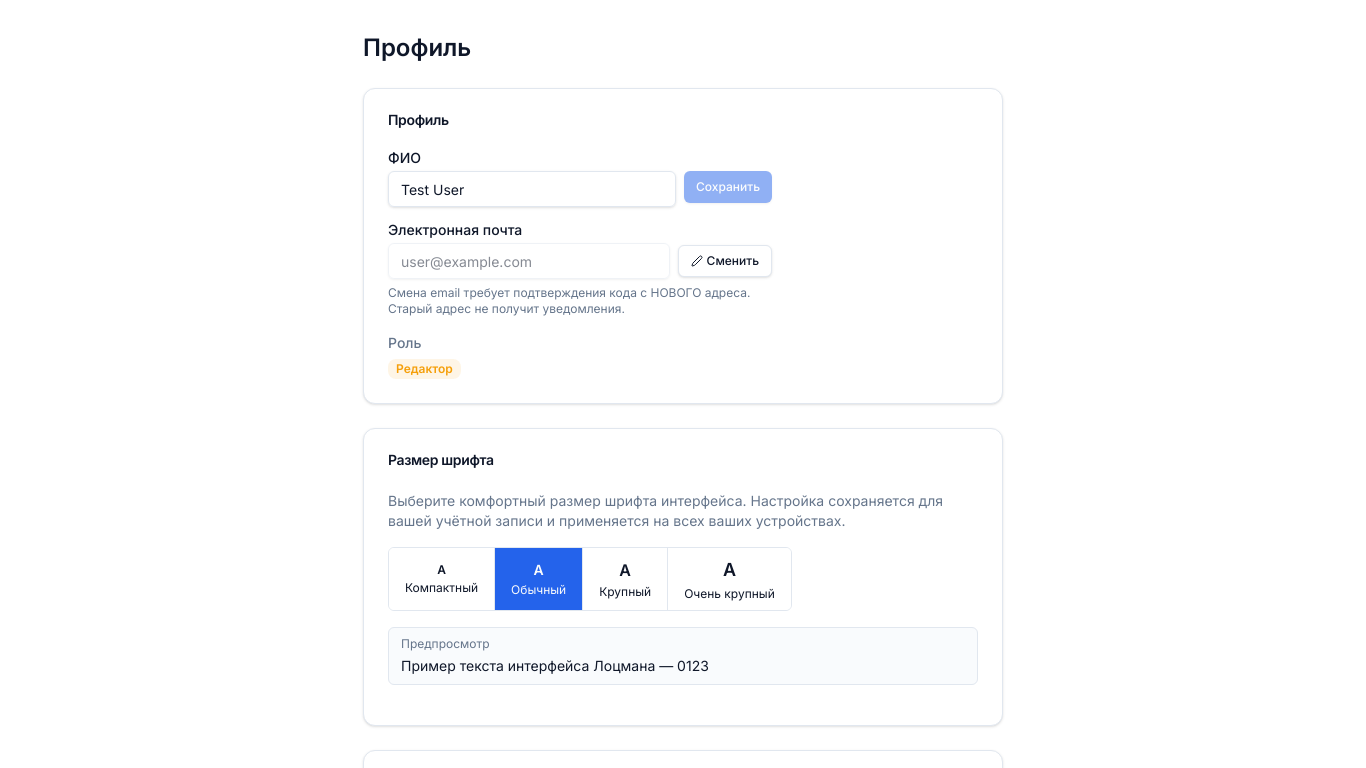
Test case: EmailChangeDialog — open/close › opens dialog when Сменить button is clicked
Expected: the field showing "user@example.com" is shown, 388,243 -> 670,279
Step 1. Click the button "Сменить" → x=725, y=261, box 678,245 -> 772,277
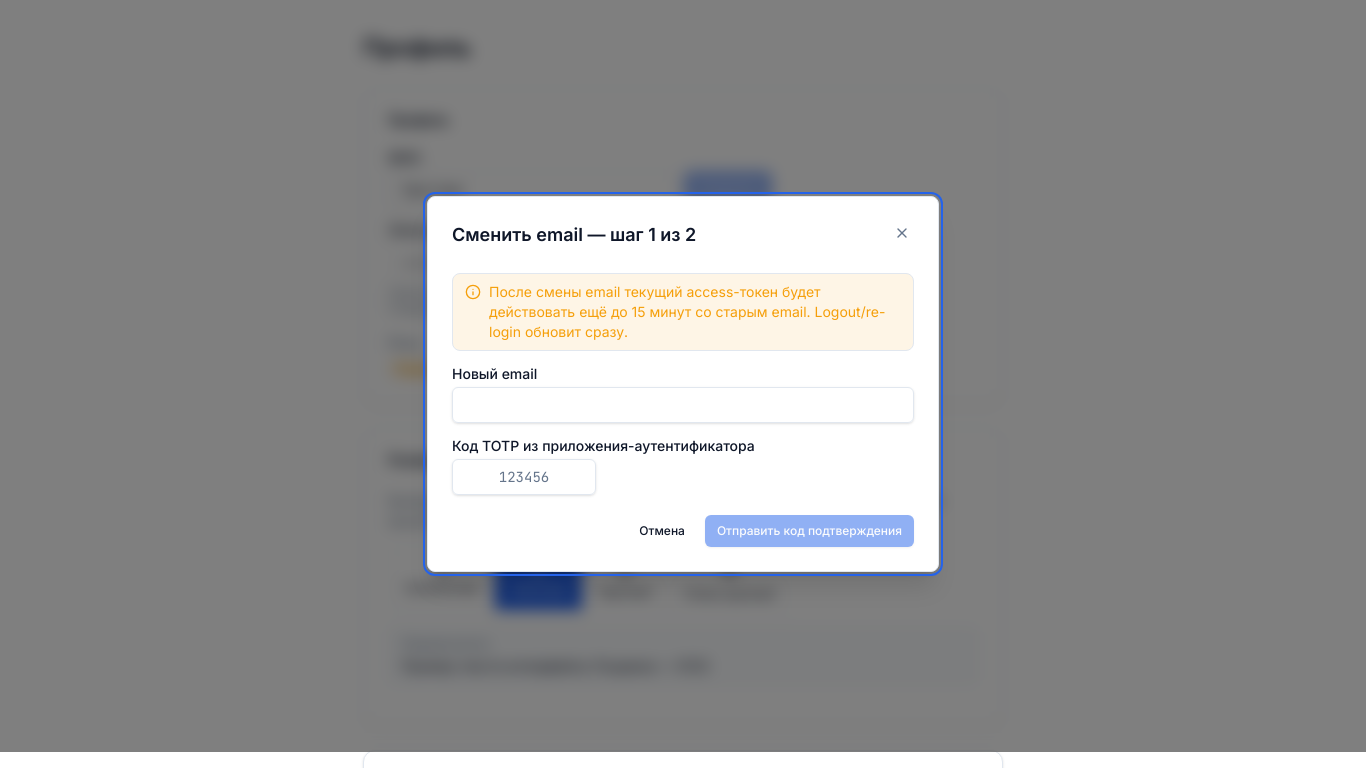
Expected: the dialog "шаг 1 из 2" is shown, 427,196 -> 939,572
